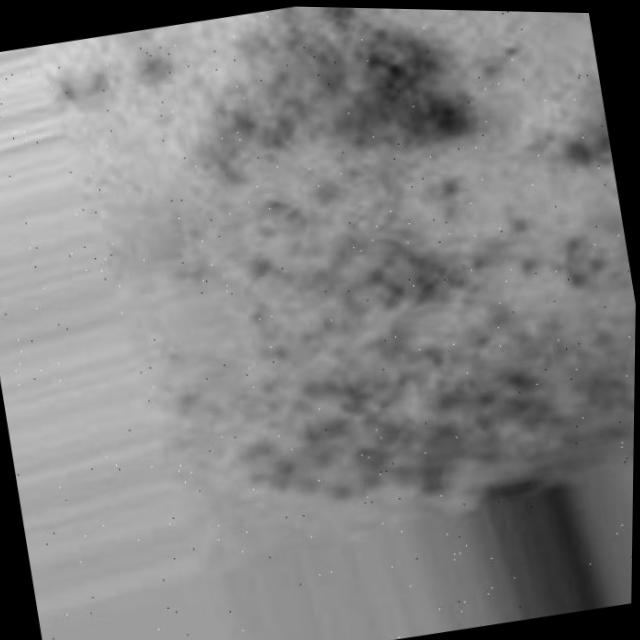Shingles: (95, 2, 640, 571)
